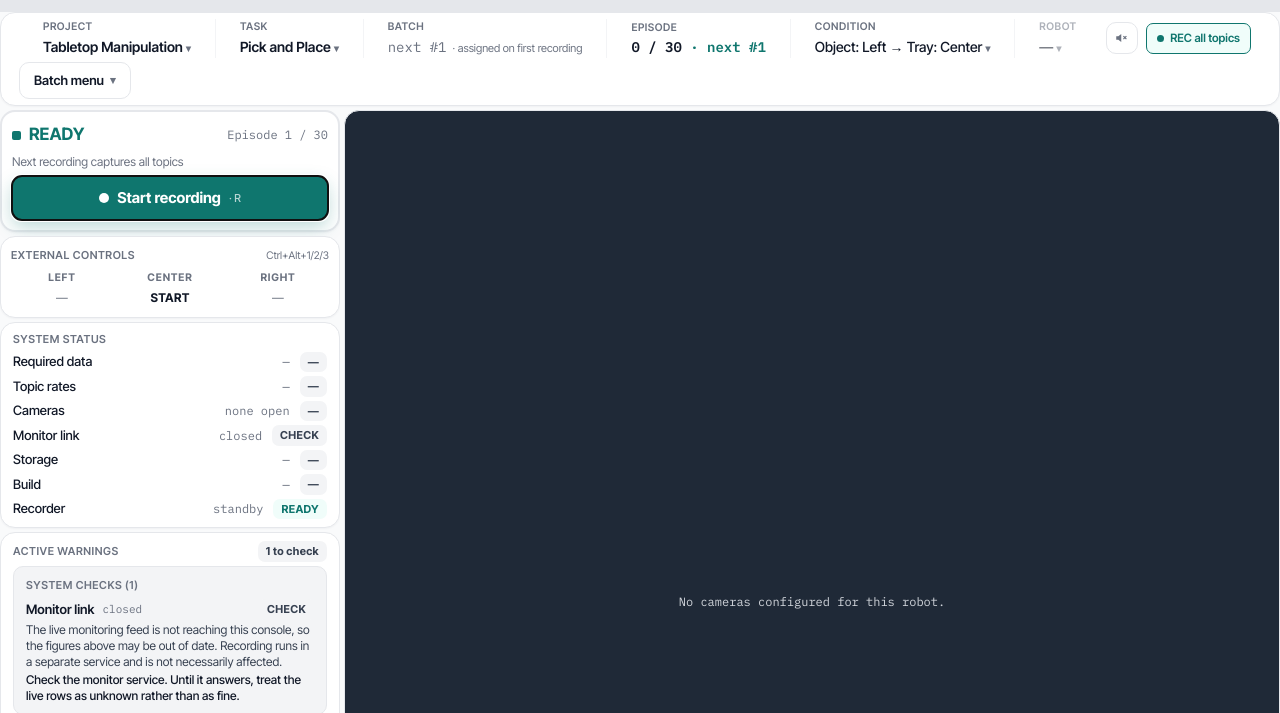
Discard & re-record discards in one click, keyed on capture_id
Check: the heading with test id "phase-title" reads "READY", box [29,124,84,144]
Click the button "Start recording · R": (170, 198) [12,176,328,220]
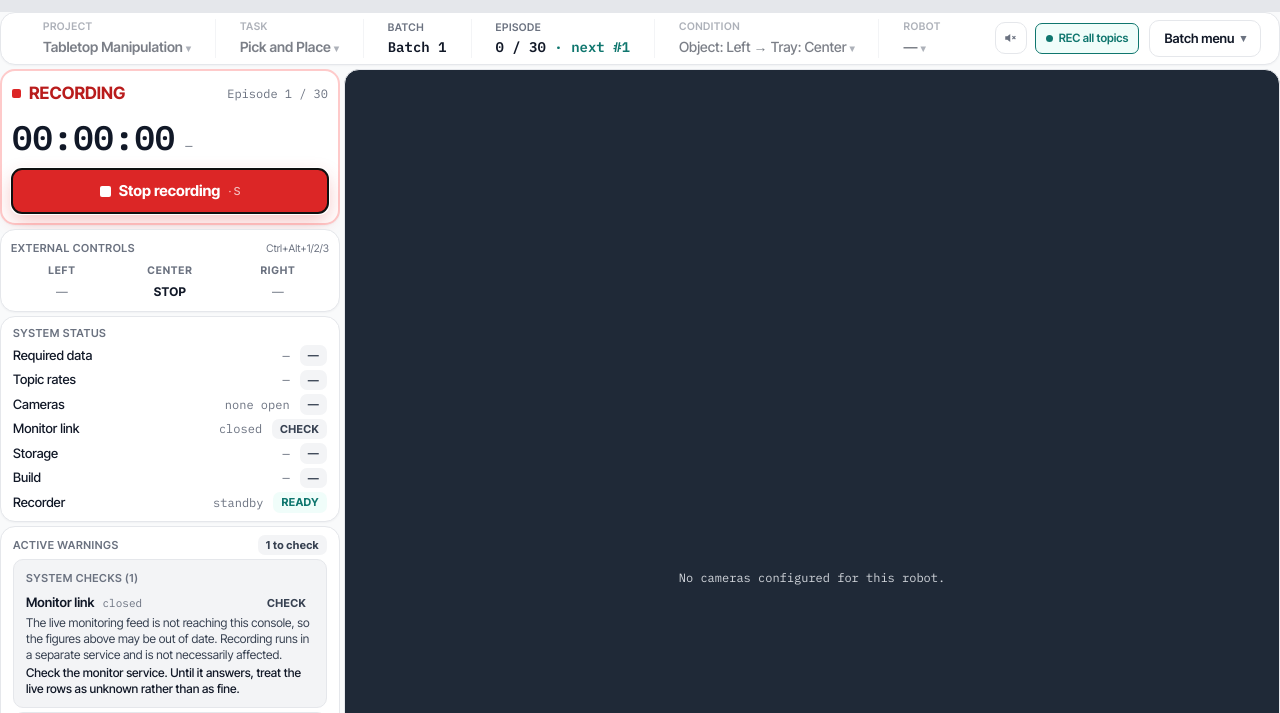
Check: the heading with test id "phase-title" reads "RECORDING", box [29,83,125,103]
Click the button "Stop recording · S": (170, 191) [12,169,328,213]
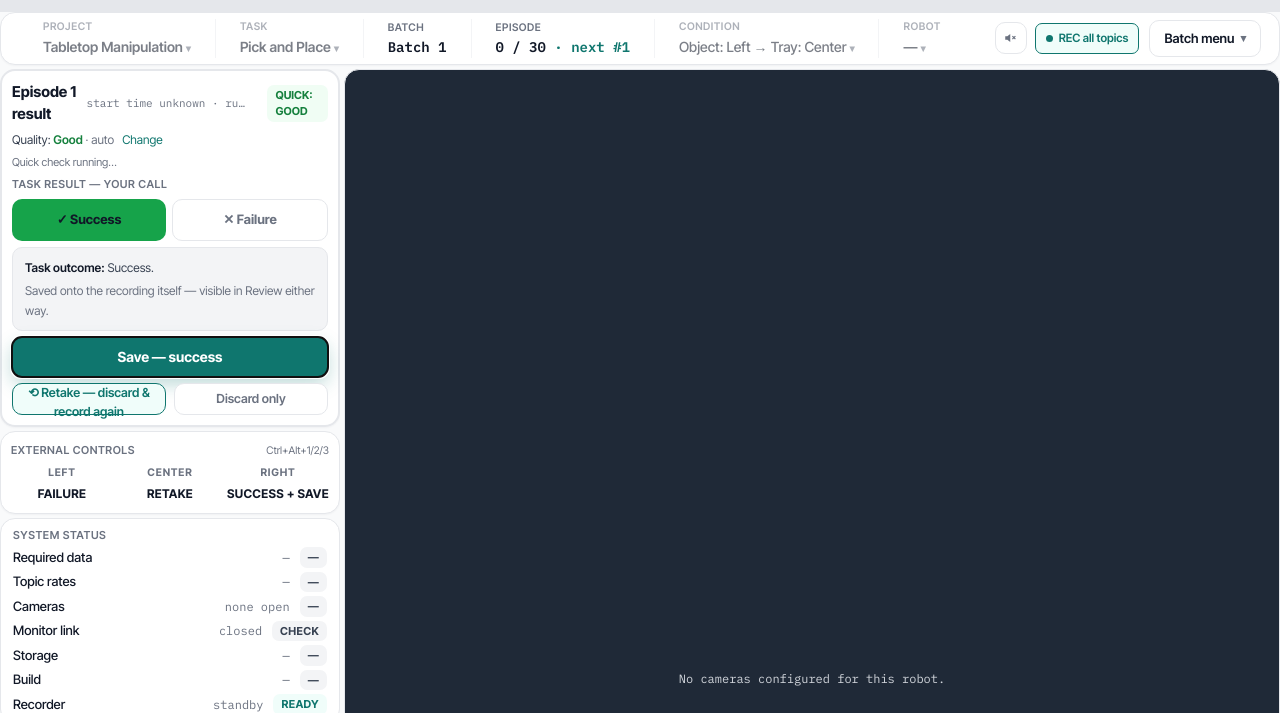
Check: the heading with test id "phase-title" reads "Episode 1 result", box [12,81,79,126]
Click the button with test id "discard-episode": (251, 399) [174,383,328,415]
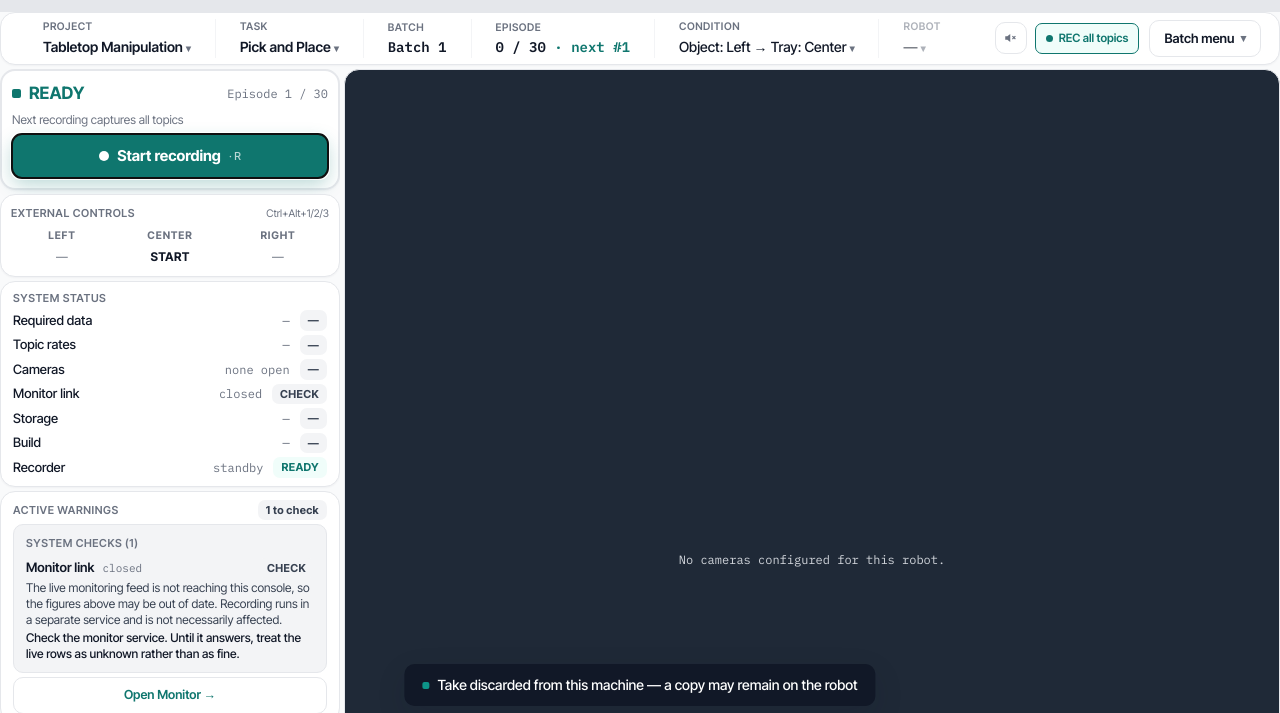
Check: the heading with test id "phase-title" reads "READY", box [29,83,84,103]
